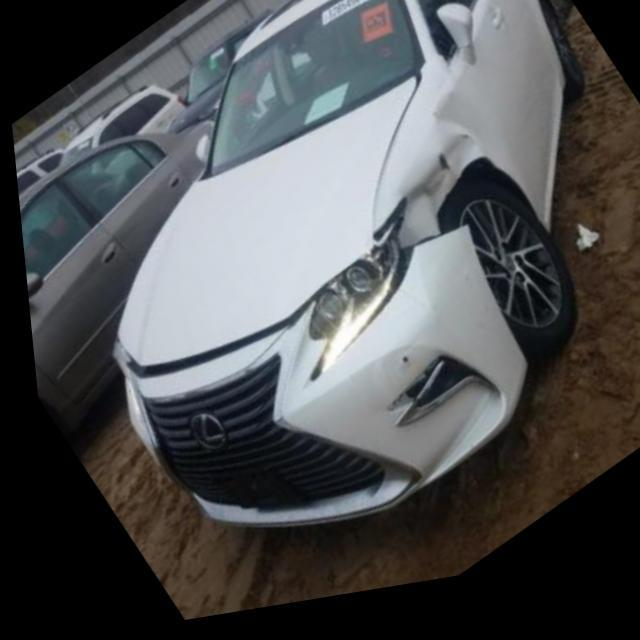dislocated part: (360, 139, 488, 297)
